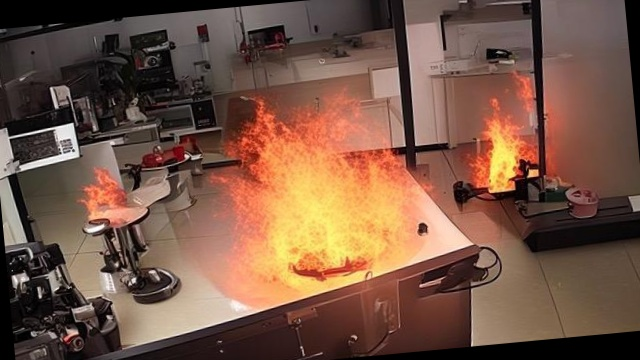fire: (208, 78, 411, 307), (457, 69, 559, 202), (66, 156, 160, 239)
